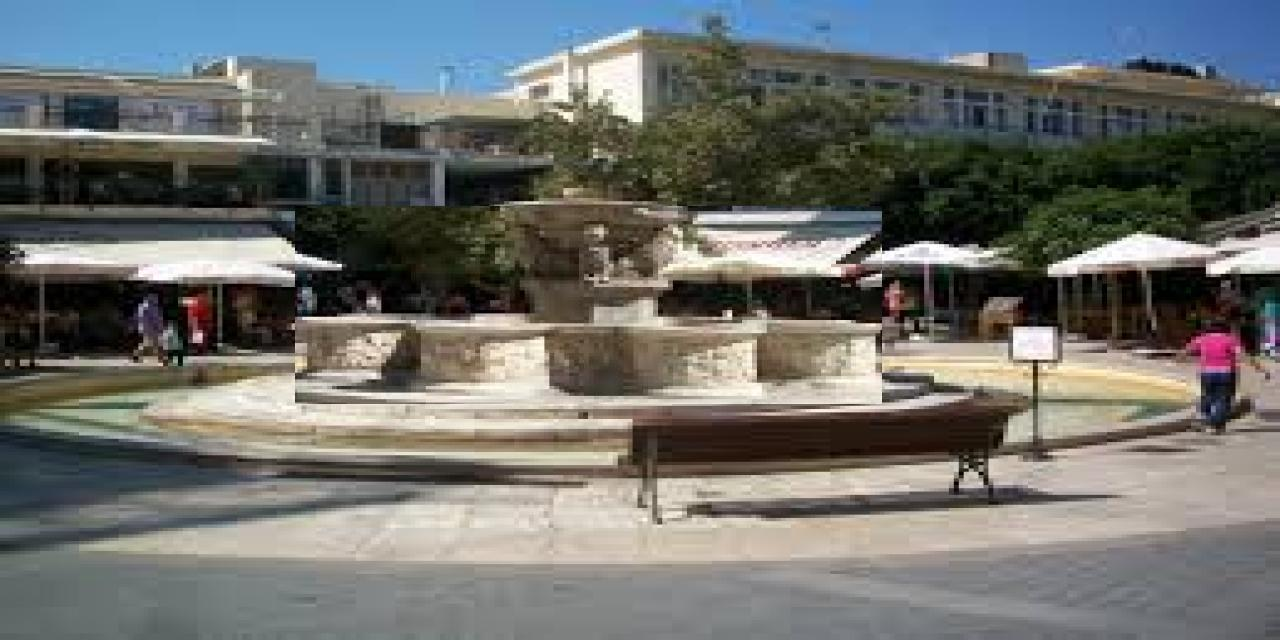Liontaria: (296, 207, 883, 405)
